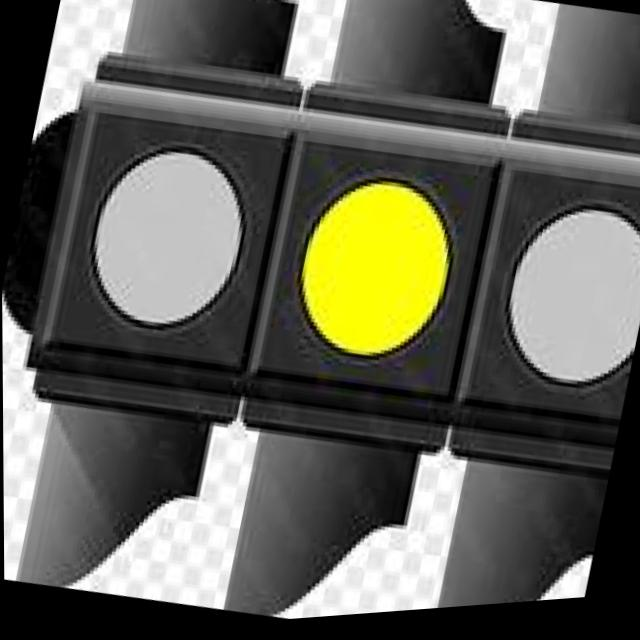yellow_light: (254, 135, 494, 431)
